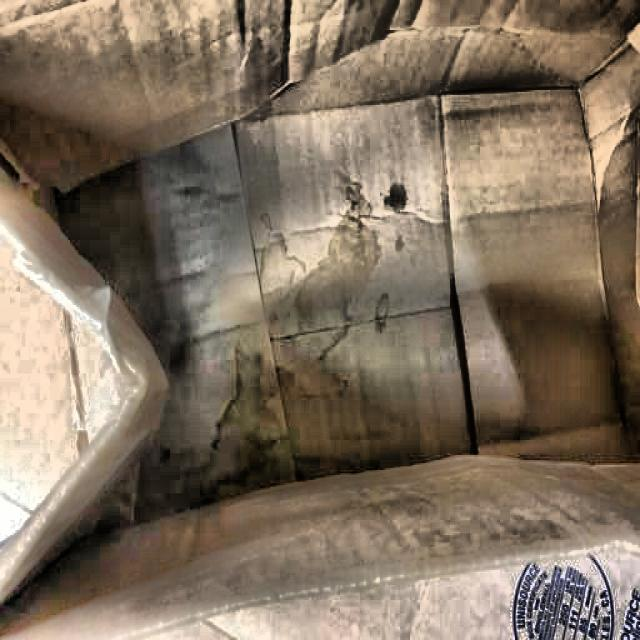cardboard: (8, 13, 638, 638)
